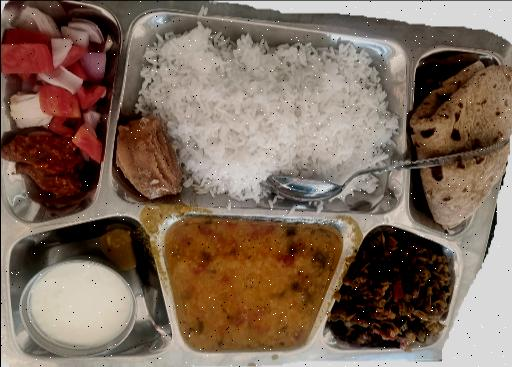Curd: (14, 262, 139, 356)
Dal: (170, 223, 334, 345)
Pickle: (0, 136, 83, 204)
Rice: (141, 33, 394, 200)
Roti: (411, 56, 512, 226)
Salad: (0, 8, 103, 124)
Sweet: (118, 112, 176, 201)
Vegetable: (340, 238, 448, 352)
